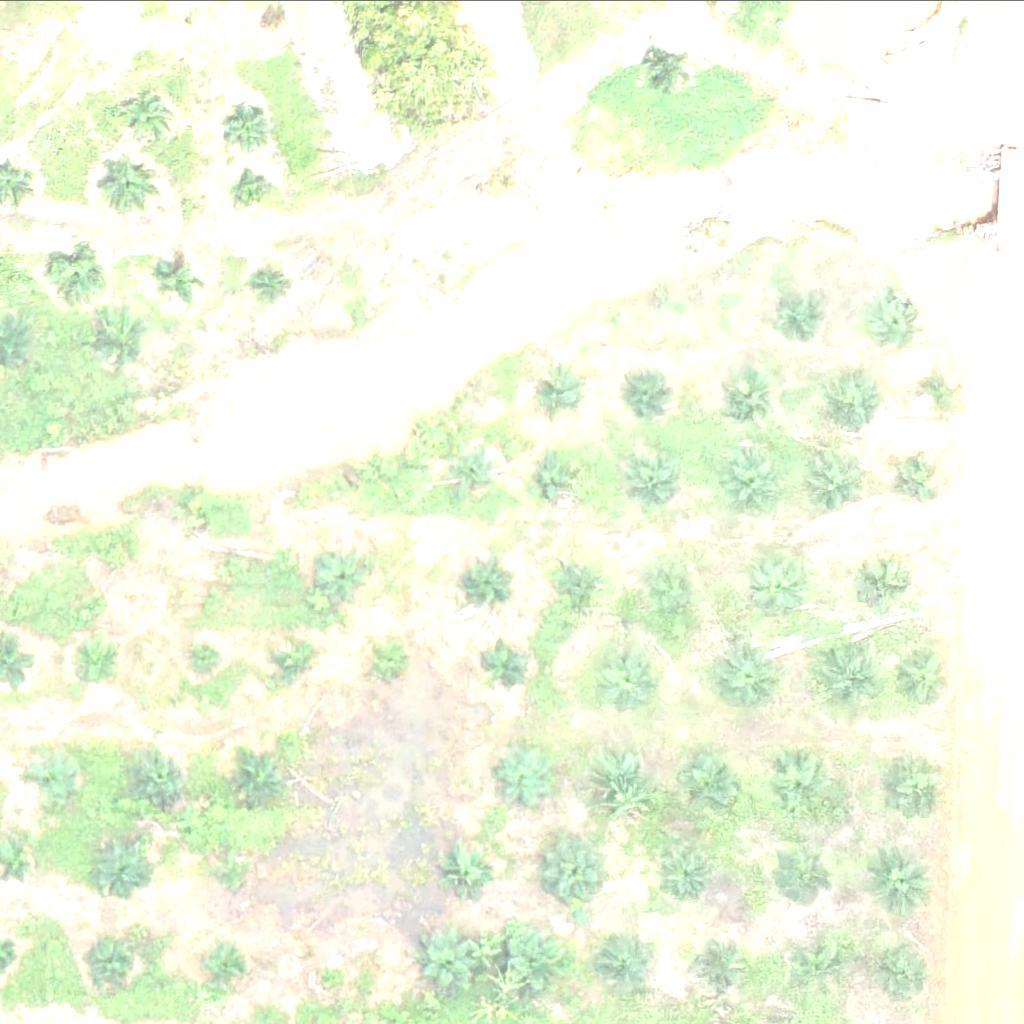Kelapa_Sawit: (650, 565, 713, 628), (626, 450, 689, 513), (90, 840, 153, 903), (443, 842, 506, 905), (543, 838, 606, 901), (26, 743, 89, 806), (870, 851, 933, 914), (723, 452, 786, 515), (768, 755, 831, 818), (875, 757, 938, 820), (775, 841, 838, 904), (892, 645, 955, 708), (819, 365, 882, 428), (804, 451, 867, 514), (419, 928, 482, 991), (115, 85, 178, 148), (682, 755, 745, 817), (597, 644, 660, 706), (495, 745, 558, 807), (814, 642, 877, 704), (788, 930, 851, 992), (718, 645, 781, 707), (756, 556, 819, 618), (854, 551, 917, 613), (714, 366, 777, 428), (508, 927, 571, 989), (595, 749, 658, 811), (97, 152, 160, 214), (870, 935, 932, 997), (133, 749, 184, 799), (236, 750, 287, 800), (889, 451, 940, 501), (910, 365, 961, 415), (268, 639, 319, 689), (87, 937, 138, 987), (608, 942, 658, 992), (701, 934, 751, 984), (664, 851, 714, 901), (625, 362, 675, 412), (456, 555, 506, 605), (481, 637, 531, 687), (451, 448, 501, 498), (320, 549, 370, 599), (536, 452, 586, 502), (535, 366, 585, 416), (876, 294, 926, 344), (771, 284, 821, 334), (645, 41, 695, 91), (560, 558, 610, 608), (54, 249, 104, 299), (223, 100, 273, 150), (78, 637, 128, 687), (104, 311, 154, 361), (358, 452, 396, 490), (369, 640, 407, 678), (159, 262, 197, 300), (250, 261, 288, 299), (233, 174, 271, 212), (210, 548, 248, 586), (97, 538, 135, 576), (206, 946, 244, 984), (172, 485, 210, 522), (212, 851, 250, 888), (191, 639, 228, 676)
